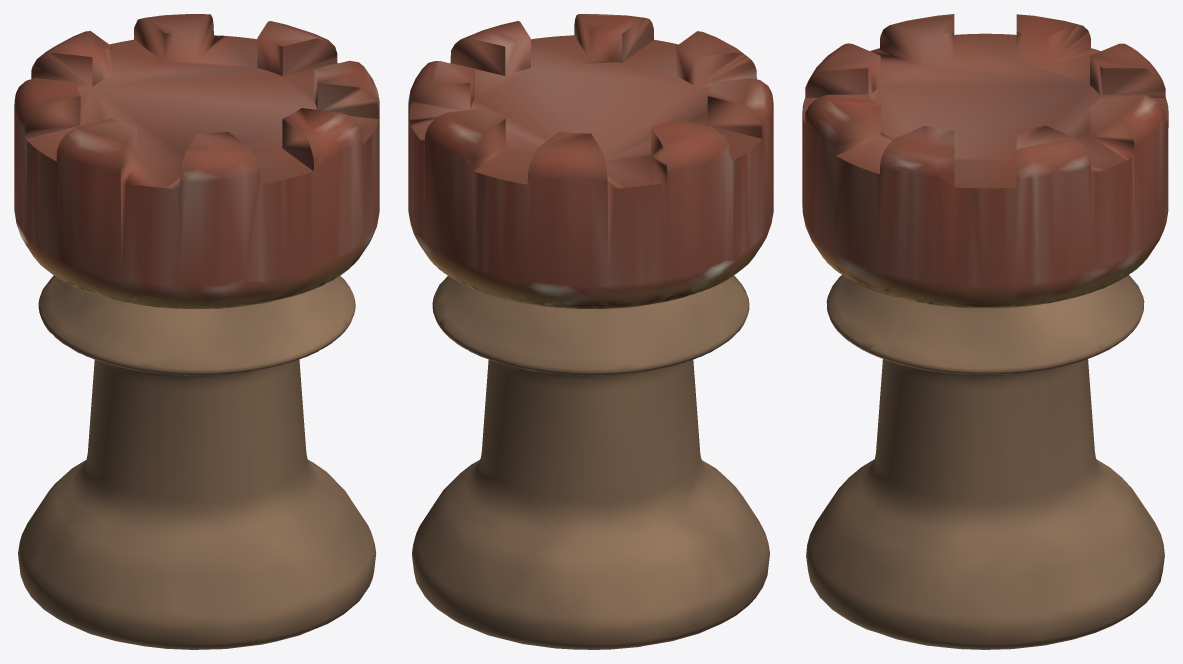
File: rook-dark.glb
3 renders of one model, left to right at view 1: azimuth 30°, elevation 25°; view 2: azimuth 150°, elevation 25°; view 3: azimuth 270°, elevation 25°, orthographic.
Parts seen in each view (by area): view 1: body; view 2: body; view 3: body.
Part boxes in pixels (bbox=[...]): body: bbox=[14, 14, 379, 649]; body: bbox=[408, 14, 773, 649]; body: bbox=[802, 14, 1168, 649].
Bounding box in the file's own units: 2.24 × 3.39 × 2.24.
